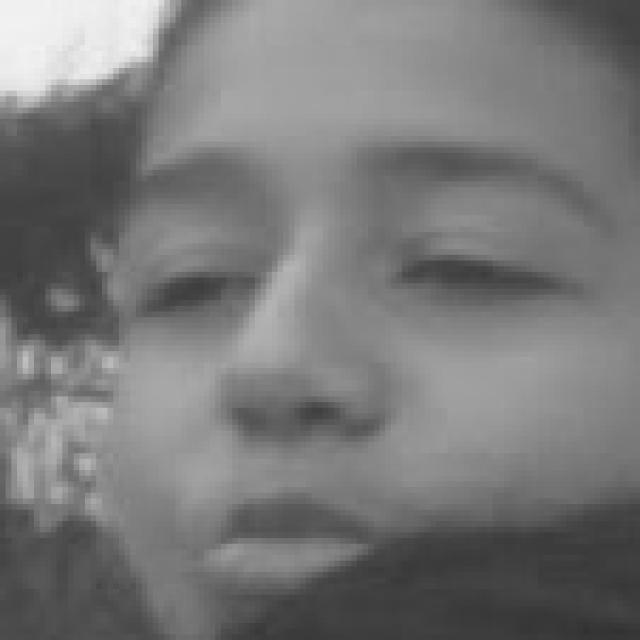real: (107, 0, 640, 640), (122, 234, 590, 348)
